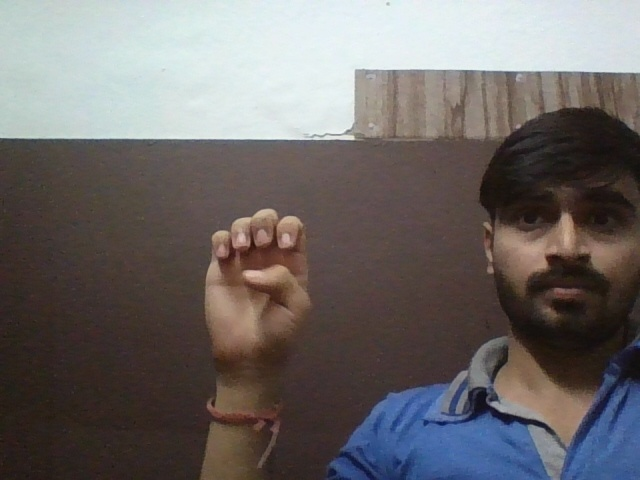F: (197, 205, 327, 371)
